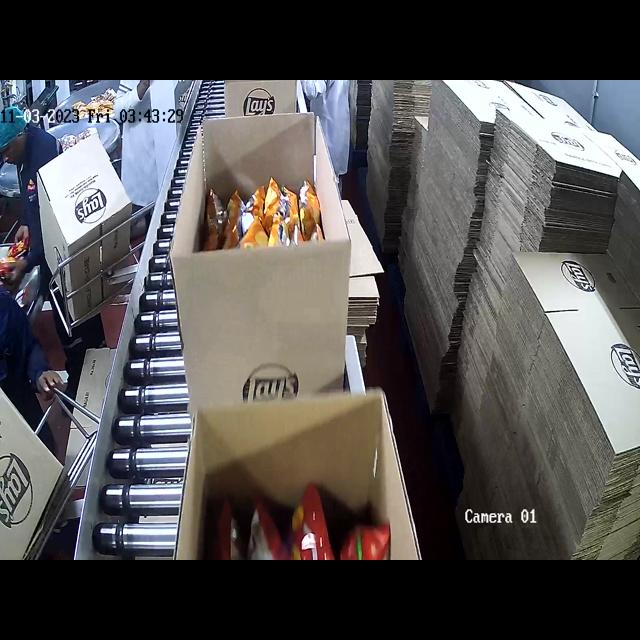cheese: (201, 174, 339, 258)
masala: (207, 480, 377, 560)
